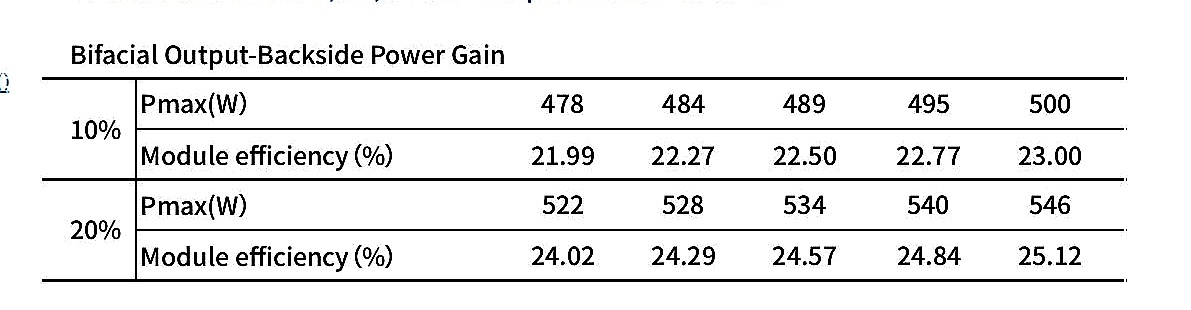table: (34, 78, 1138, 292)
table column: (134, 80, 519, 278), (989, 78, 1117, 279), (625, 77, 748, 282), (865, 77, 987, 283), (750, 78, 864, 280), (519, 78, 625, 277), (39, 81, 134, 276)
table name: (37, 35, 569, 76)
table row: (44, 231, 1134, 280), (44, 182, 1132, 229), (39, 81, 1132, 126), (42, 132, 1132, 177)
table row header: (137, 79, 522, 277), (40, 78, 133, 278)
table spanning cell: (43, 185, 132, 282), (43, 83, 135, 176)
